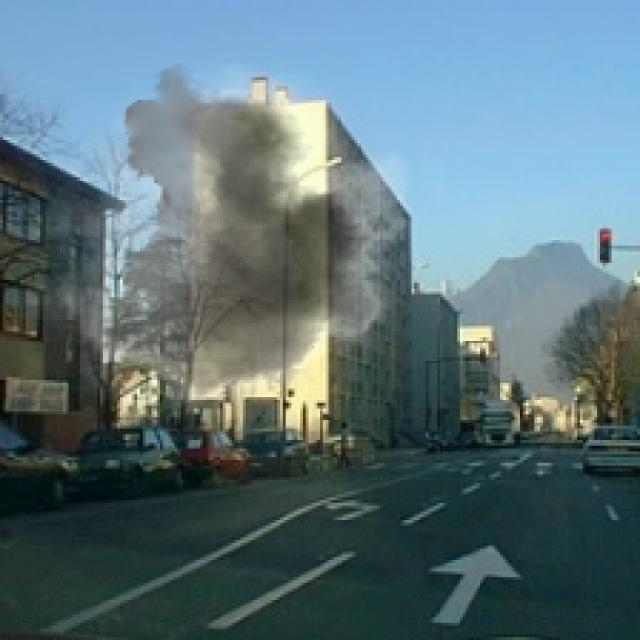Smoke: (11, 62, 432, 428)
